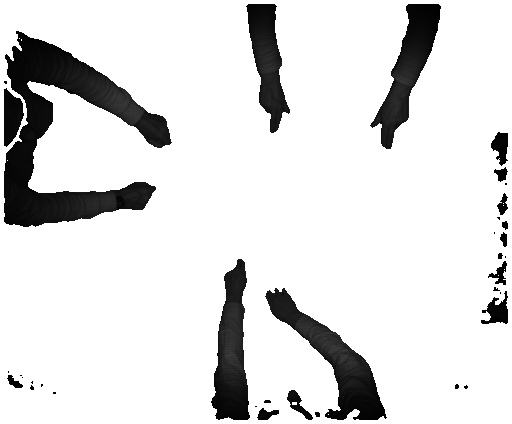fist: (139, 113, 175, 151), (124, 179, 159, 215)
hand: (368, 97, 415, 151), (256, 83, 295, 135), (264, 288, 304, 325), (224, 256, 247, 299)
